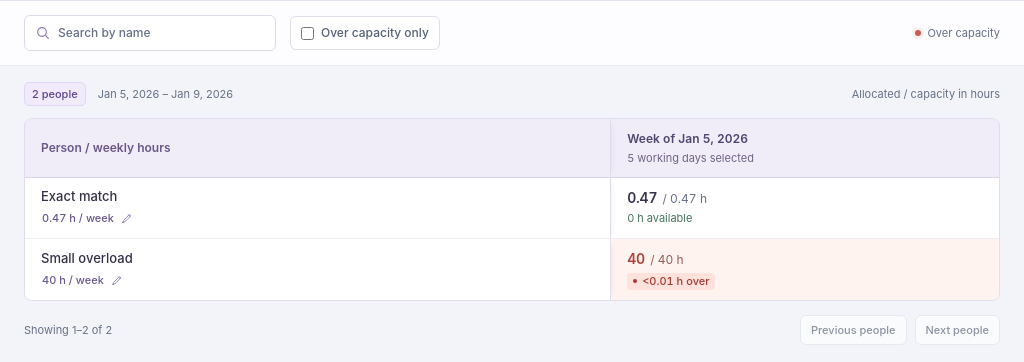
Test case: capacity planning › does not flag decimal arithmetic noise and labels small real overloads
Expected: the text "<0.01 h over" is shown, x1=627 y1=272 x2=716 y2=290
Click the checkbox labelled "Over capacity only": (308, 33) x1=301 y1=26 x2=314 y2=40
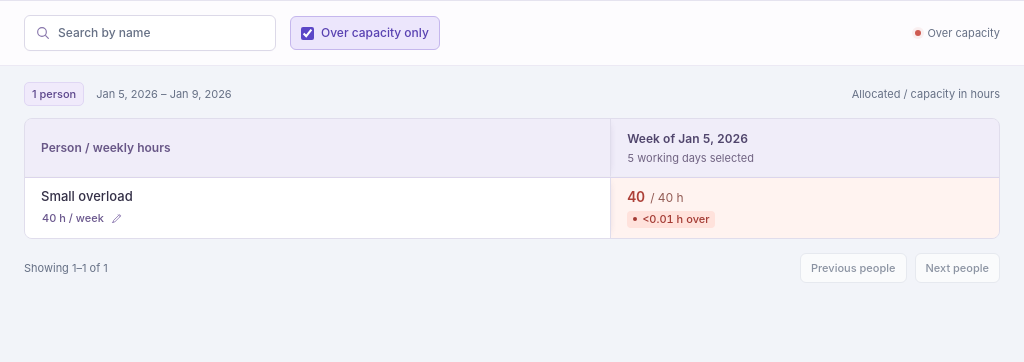
Expected: the text "Small overload" is shown, x1=41 y1=188 x2=133 y2=204
Result: the text "Exact match" is gone
